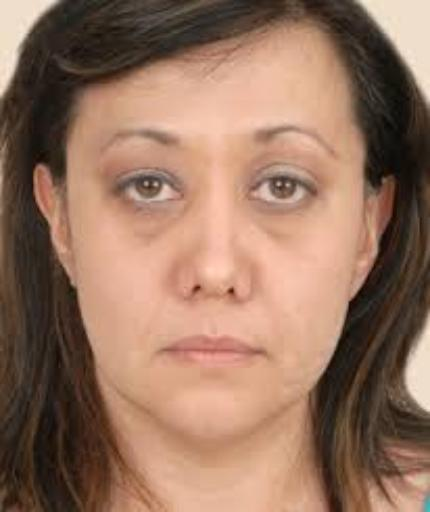left_eye: (250, 175, 318, 210)
left_lip_corner: (245, 341, 274, 362)
right_eye: (112, 177, 183, 212)
right_lip_corner: (152, 340, 178, 363)
